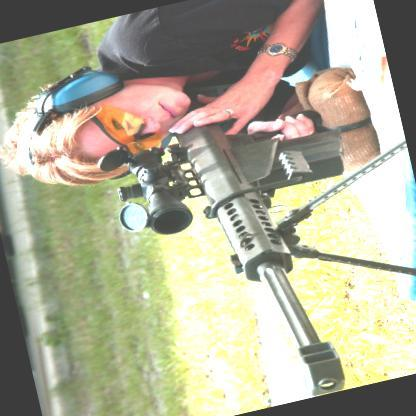rifle: (85, 53, 416, 416)
